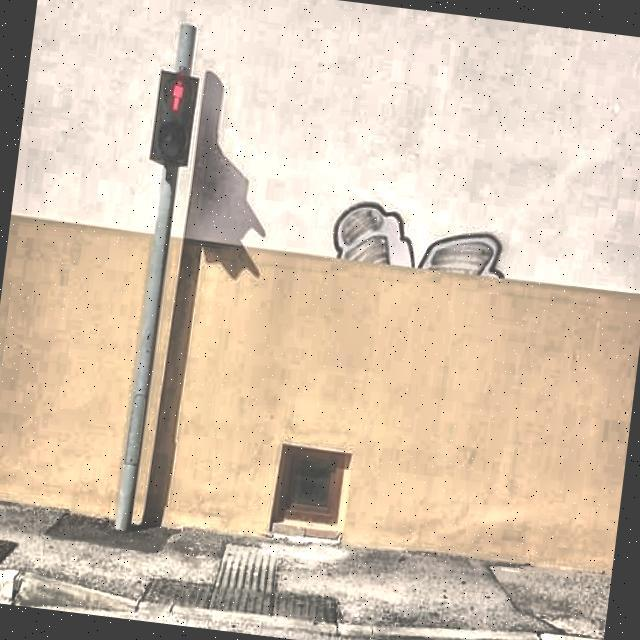red_light: (168, 77, 186, 113)
